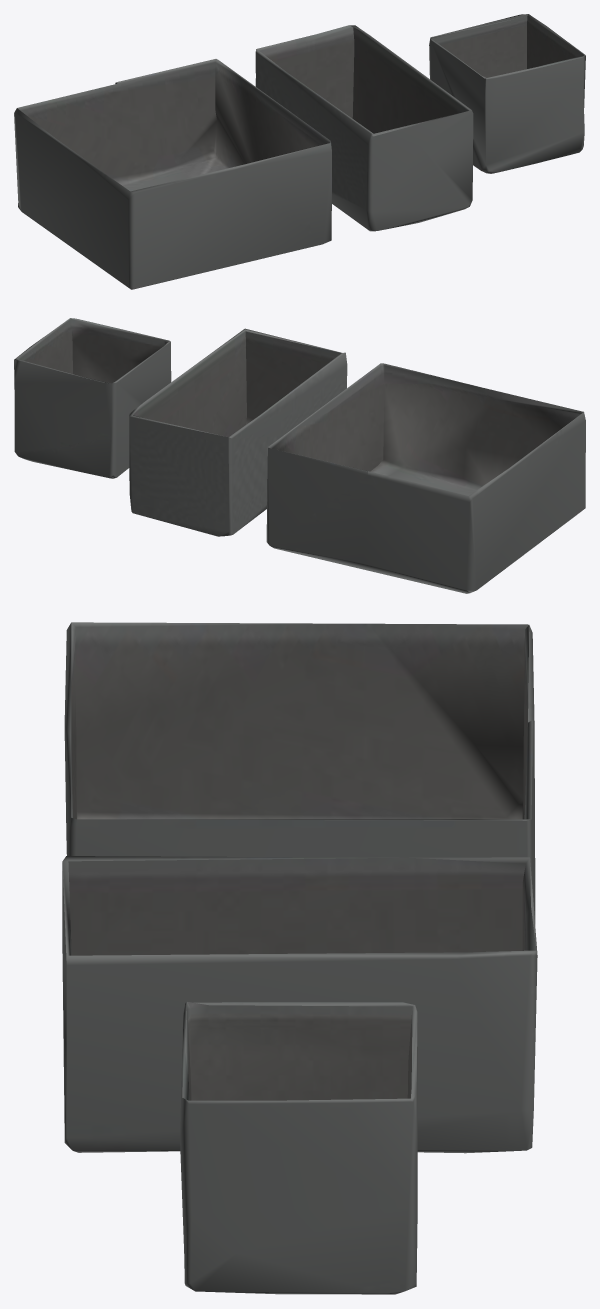
The model's file is 09 - SKUBB Box, set of 6 - dark grey.glb.
3 renders of one model, top to bottom at view 1: azimuth 30°, elevation 25°; view 2: azimuth 150°, elevation 25°; view 3: azimuth 270°, elevation 25°, orthographic. The views are drawn at different scales.
Parts seen in each view (by area): view 1: ASY_LPT01_40399998_S01_NV01, ASY_LPT02_40399998_S01_NV01, ASY_LPT03_40399998_S01_NV01; view 2: ASY_LPT01_40399998_S01_NV01, ASY_LPT02_40399998_S01_NV01, ASY_LPT03_40399998_S01_NV01; view 3: ASY_LPT01_40399998_S01_NV01, ASY_LPT02_40399998_S01_NV01, ASY_LPT03_40399998_S01_NV01.
Boxes of the visible parts, x1,y1,x2,y2 form: ASY_LPT01_40399998_S01_NV01: (14,59,331,289); ASY_LPT02_40399998_S01_NV01: (255,25,473,231); ASY_LPT03_40399998_S01_NV01: (429,14,585,173); ASY_LPT01_40399998_S01_NV01: (266,363,585,593); ASY_LPT02_40399998_S01_NV01: (129,328,347,536); ASY_LPT03_40399998_S01_NV01: (14,318,171,478); ASY_LPT01_40399998_S01_NV01: (64,622,535,923); ASY_LPT02_40399998_S01_NV01: (62,856,537,1153); ASY_LPT03_40399998_S01_NV01: (180,1002,417,1294).
Bounding box in the file's own units: 0.6726 × 0.1356 × 0.2838.
Materials: 3 (3 with a texture image).
